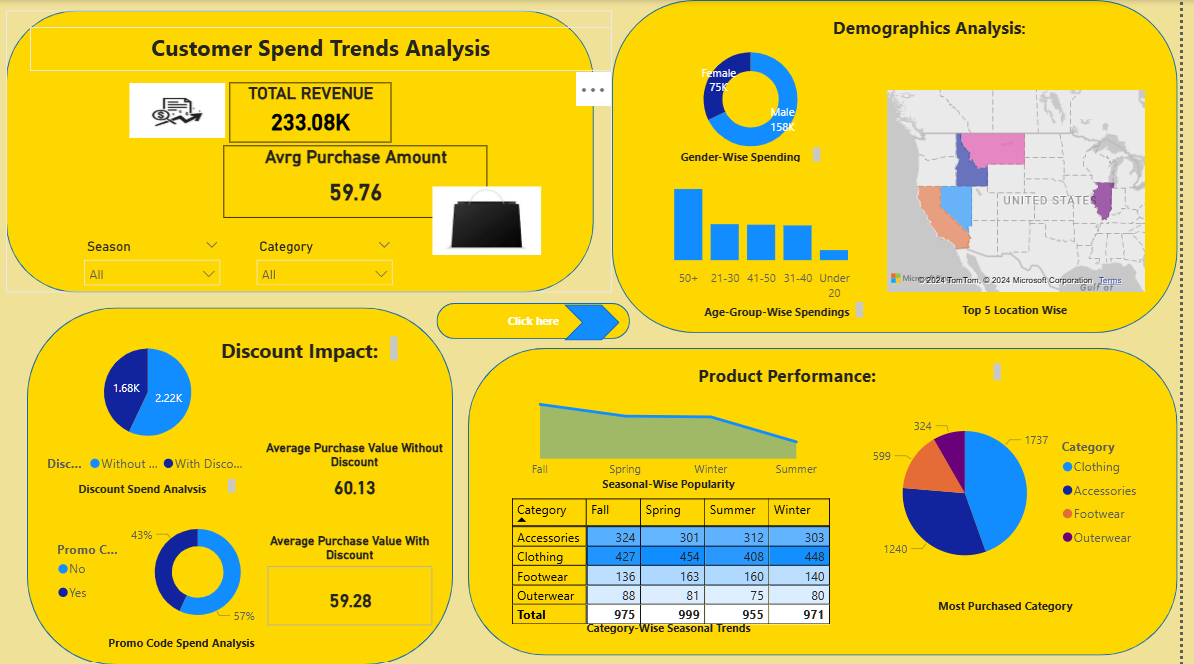

The dashboard page shown, as its layout file describes it:
{"tool":"powerbi","page":{"name":"Page 1","canvas":[1280,720],"ordinal":0},"visuals":[{"type":"shape","box":[667.1,0,610.4,359.5],"z":0,"group":"g6"},{"type":"shape","box":[13,11.3,634.4,304.4],"z":0,"group":"g4"},{"type":"textbox","box":[978,14.6,170,13],"z":0},{"type":"shape","box":[35.6,331.9,459.9,387],"z":0,"group":"g3"},{"type":"shape","box":[511.7,375.7,765.9,331.9],"z":0,"group":"g1"},{"type":"textbox","box":[38.9,29.1,628.3,47],"z":1000,"group":"g4"},{"type":"donutChart","fields":{"Category":["Gender-Wise-Spending.Gender"],"Y":["Sum(Gender-Wise-Spending.Total-Spend)"]},"box":[703.9,34,224.1,145.7],"z":1000,"group":"g6"},{"type":"pieChart","fields":{"Category":["shopping_trends.Discount Spend"],"Y":["CountNonNull(shopping_trends.Customer ID)"]},"box":[49.6,357,230.7,162.9],"z":1000,"group":"g3"},{"type":"group","id":"g1","title":"Group 3","box":[511.7,375.7,765.9,333.6],"z":1000},{"type":"group","id":"g2","title":"Group 2","box":[667.1,0,610.4,359.5],"z":2000},{"type":"card","title":"TOTAL REVENUE","fields":{"Values":["shopping_trends.Total Revenue"]},"box":[254.3,89,174.9,64.8],"z":2000,"group":"g4"},{"type":"textbox","box":[722.6,153.8,175.2,25.9],"z":2000,"group":"g6"},{"type":"donutChart","fields":{"Category":["shopping_trends.Promo Code Used"],"Y":["CountNonNull(shopping_trends.Customer ID)"]},"box":[63.7,526.2,238.5,181.7],"z":2000,"group":"g3"},{"type":"card","title":"Avrg Purchase Amount","fields":{"Values":["shopping_trends.Avrg purchase amount"]},"box":[247.8,157,285,77.7],"z":3000,"group":"g4"},{"type":"textbox","box":[973.6,319,257.1,29.1],"z":3000,"group":"g6"},{"type":"group","id":"g3","title":"Group 4","box":[35.6,331.9,459.9,387],"z":3000},{"type":"pieChart","fields":{"Category":["Most-purchased.Category"],"Y":["Sum(Most-purchased.Total-Purchase)"]},"box":[938.3,423.3,310.2,218.8],"z":3000,"group":"g1"},{"type":"card","title":"Average Purchase Value Without Discount ","fields":{"Values":["shopping_trends.avg-without-dscnt"]},"box":[283.5,476,212,70.5],"z":3000,"group":"g3"},{"type":"group","id":"g4","title":"Group 5","box":[13,11.3,654.2,304.4],"z":4000},{"type":"image","box":[140.9,84.2,113.3,69.6],"z":4000,"group":"g4"},{"type":"columnChart","fields":{"Category":["Age-Group-Wise.Age Group"],"Y":["Sum(Age-Group-Wise.Total-Spend)"]},"box":[708.8,179.7,234.1,151.8],"z":4000,"group":"g6"},{"type":"stackedAreaChart","fields":{"Category":["Season-wise-popularity.Season"],"Y":["Sum(Season-wise-popularity.Total_Spend)"]},"box":[547.2,404,360.3,120.6],"z":4000,"group":"g1"},{"type":"cardVisual","title":"Average Purchase Value With Discount","fields":{"Data":["shopping_trends.Avg-with-discnt"]},"box":[289.7,576.3,188.6,103.4],"z":4000,"group":"g3"},{"type":"shape","box":[477.7,327.1,208.9,38.9],"z":4001,"group":"g5"},{"type":"shape","box":[615.3,328.7,59.9,38.9],"z":4002,"group":"g5"},{"type":"group","id":"g5","title":"Group 6","box":[477.7,327.1,208.9,40.5],"z":4003},{"type":"filledMap","fields":{"Category":["Top-5-location.Location"],"Series":["Top-5-location.Total-Spend"]},"box":[958.7,91.9,288.7,227.7],"z":5000,"group":"g6"},{"type":"image","box":[468,195.9,127.9,84.2],"z":5000,"group":"g4"},{"type":"textbox","box":[925.6,318.4,261.4,27.5],"z":5000,"group":"g2"},{"type":"textbox","box":[63.7,512.1,202.7,25.1],"z":5000,"group":"g3"},{"type":"pivotTable","fields":{"Rows":["shopping_trends.Category"],"Columns":["shopping_trends.Season"],"Values":["CountNonNull(shopping_trends.Customer ID)"]},"box":[553.7,532,371.6,147.4],"z":5000,"group":"g1"},{"type":"textbox","box":[838.3,11.9,341.9,35.9],"z":6000,"group":"g6"},{"type":"slicer","fields":{"Values":["shopping_trends.Category"]},"box":[273.7,252.6,166.8,55.1],"z":6000,"group":"g4"},{"type":"textbox","box":[628,387.6,463.7,31.3],"z":6000,"group":"g1"},{"type":"textbox","box":[99.5,678.2,207.3,29.8],"z":6000,"group":"g3"},{"type":"slicer","fields":{"Values":["shopping_trends.Season"]},"box":[87.5,252.6,166.8,55.1],"z":7000,"group":"g4"},{"type":"textbox","box":[756.2,320.6,186.7,27.5],"z":7000,"group":"g6"},{"type":"textbox","box":[228.9,358.5,212,37.6],"z":7000,"group":"g3"},{"type":"textbox","box":[595.7,661.5,265,32.7],"z":7000,"group":"g1"},{"type":"textbox","box":[595.7,506.7,265,35.7],"z":8000,"group":"g1"},{"type":"textbox","box":[965.7,637.7,253.7,41.7],"z":9000,"group":"g1"},{"type":"group","id":"g6","title":"Group 1","box":[667.1,0,610.4,359.5],"z":9003,"group":"g2"}]}

Visuals, with their boxes in screenshot pixels (x1, y1, x2, y2), scaled from the page's 1280x720 canvas onto the 1194x664 screenshot:
shape: select_region(622, 0, 1192, 332)
shape: select_region(12, 10, 604, 291)
textbox: select_region(912, 13, 1071, 25)
shape: select_region(33, 306, 462, 663)
shape: select_region(477, 346, 1192, 653)
textbox: select_region(36, 27, 622, 70)
donutChart - Gender-Wise-Spending.Gender x Sum(Gender-Wise-Spending.Total-Spend): select_region(657, 31, 866, 166)
pieChart - shopping_trends.Discount Spend x CountNonNull(shopping_trends.Customer ID): select_region(46, 329, 261, 479)
"Group 3" group: select_region(477, 346, 1192, 654)
"Group 2" group: select_region(622, 0, 1192, 332)
"TOTAL REVENUE" card: select_region(237, 82, 400, 142)
textbox: select_region(674, 142, 837, 166)
donutChart - shopping_trends.Promo Code Used x CountNonNull(shopping_trends.Customer ID): select_region(59, 485, 282, 653)
"Avrg Purchase Amount" card: select_region(231, 145, 497, 216)
textbox: select_region(908, 294, 1148, 321)
"Group 4" group: select_region(33, 306, 462, 663)
pieChart - Most-purchased.Category x Sum(Most-purchased.Total-Purchase): select_region(875, 390, 1165, 592)
"Average Purchase Value Without Discount " card: select_region(264, 439, 462, 504)
"Group 5" group: select_region(12, 10, 622, 291)
image: select_region(131, 78, 237, 142)
columnChart - Age-Group-Wise.Age Group x Sum(Age-Group-Wise.Total-Spend): select_region(661, 166, 880, 306)
stackedAreaChart - Season-wise-popularity.Season x Sum(Season-wise-popularity.Total_Spend): select_region(510, 373, 847, 484)
"Average Purchase Value With Discount" cardVisual: select_region(270, 531, 446, 627)
shape: select_region(446, 302, 640, 338)
shape: select_region(574, 303, 630, 339)
"Group 6" group: select_region(446, 302, 640, 339)
filledMap - Top-5-location.Location x Top-5-location.Total-Spend: select_region(894, 85, 1164, 295)
image: select_region(437, 181, 556, 258)
textbox: select_region(863, 294, 1107, 319)
textbox: select_region(59, 472, 249, 495)
pivotTable - shopping_trends.Category x shopping_trends.Season: select_region(516, 491, 863, 627)
textbox: select_region(782, 11, 1101, 44)
slicer - shopping_trends.Category: select_region(255, 233, 411, 284)
textbox: select_region(586, 357, 1018, 386)
textbox: select_region(93, 625, 286, 653)
slicer - shopping_trends.Season: select_region(82, 233, 237, 284)
textbox: select_region(705, 296, 880, 321)
textbox: select_region(214, 331, 411, 365)
textbox: select_region(556, 610, 803, 640)
textbox: select_region(556, 467, 803, 500)
textbox: select_region(901, 588, 1137, 627)
"Group 1" group: select_region(622, 0, 1192, 332)
